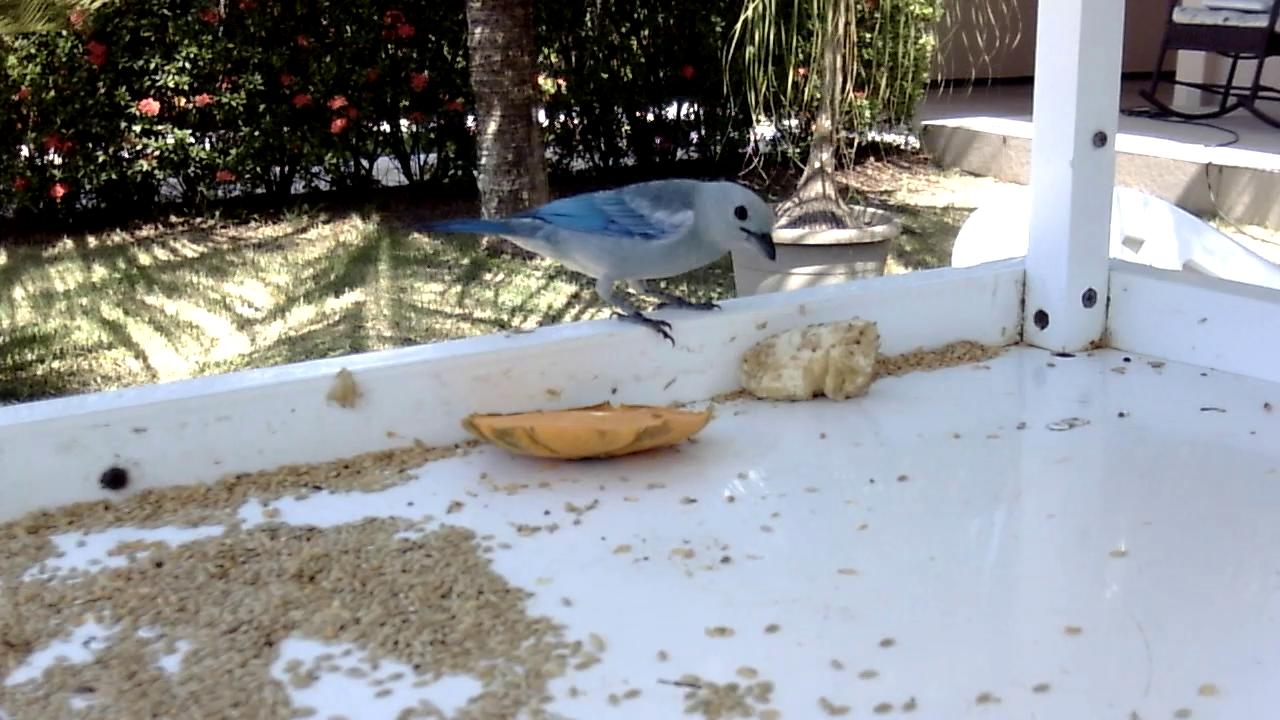sanhaco_da_amazonia: (432, 177, 781, 348)
